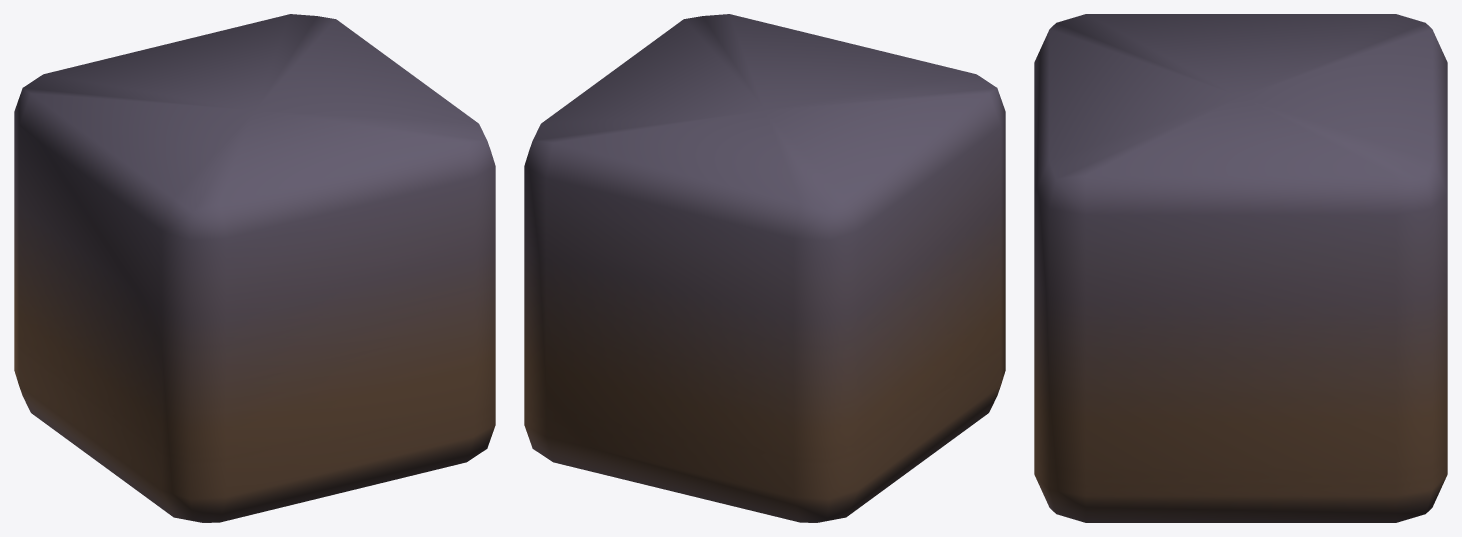
The model's file is block_mountain_3_0.fbx.
3 views of the same model, side by side, from view 1: azimuth 30°, elevation 25°; view 2: azimuth 150°, elevation 25°; view 3: azimuth 270°, elevation 25° (orthographic). The views are drawn at different scales.
Parts seen in each view (by area): view 1: block_mountain_3_0; view 2: block_mountain_3_0; view 3: block_mountain_3_0.
Part boxes in pixels (x1=…): block_mountain_3_0: x1=14, y1=14, x2=495, y2=522; block_mountain_3_0: x1=524, y1=14, x2=1005, y2=522; block_mountain_3_0: x1=1034, y1=14, x2=1447, y2=522.
Size of the model in its own units: 200 by 193 by 200.
